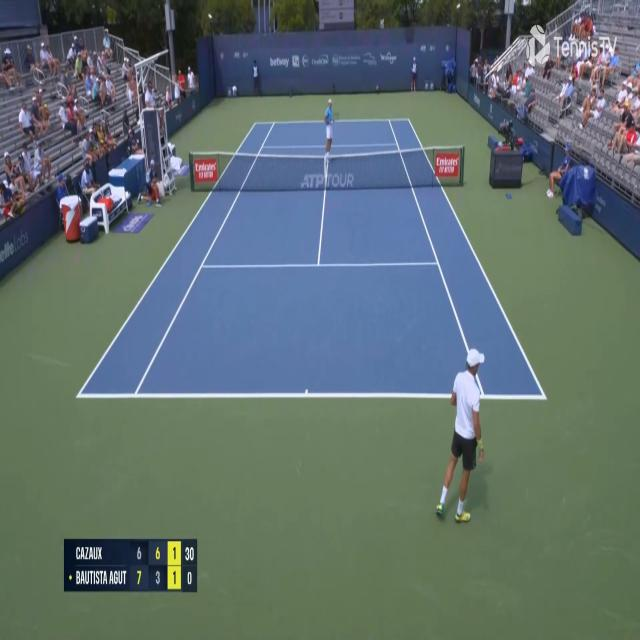tennis-player: (432, 346, 488, 529)
